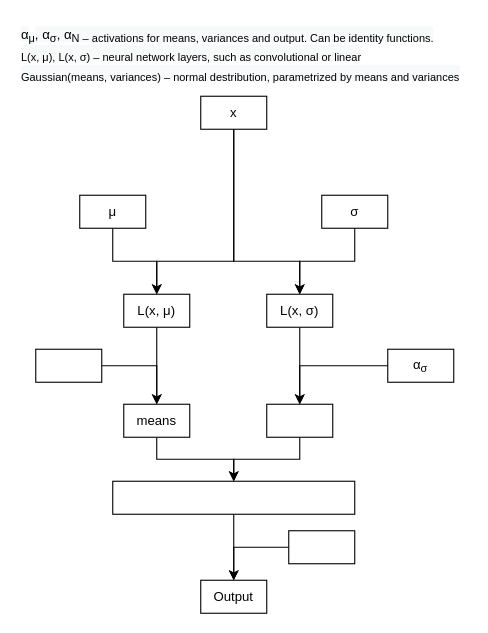
The diagram is 488 pixels wide and 633 high, and some of its shapes have lost their labels. Here are the shapes that lost their labels. From the top down, the centre of each, then its label:
At (68,365): "α μ".
At (299,420): "variances".
At (233,497): "Gaussian(means, variances)".
At (321,547): "α N".
